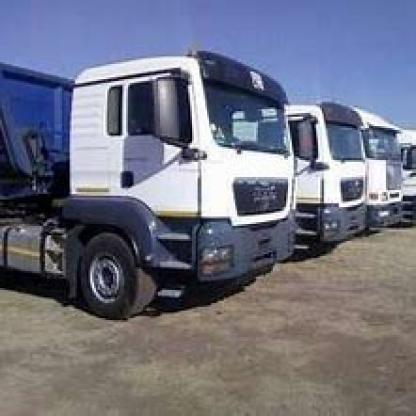dump_truck: (13, 34, 296, 341), (297, 81, 367, 284), (365, 106, 414, 262)
